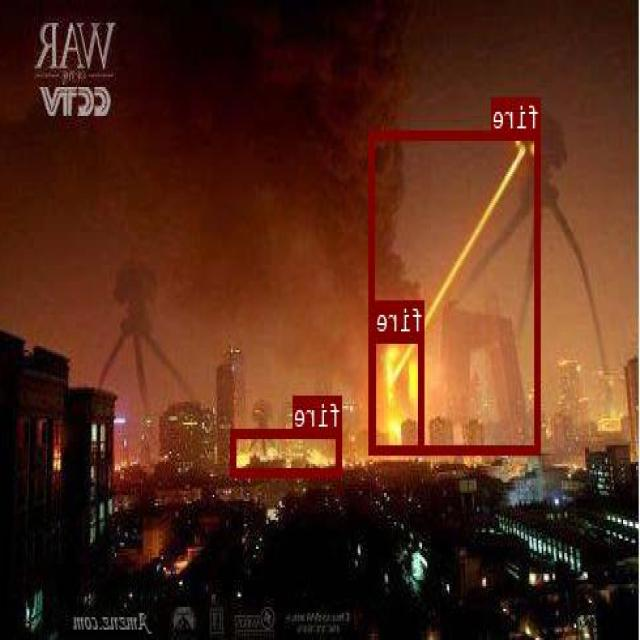fire: (371, 130, 541, 452), (371, 332, 425, 452), (232, 428, 343, 475)
